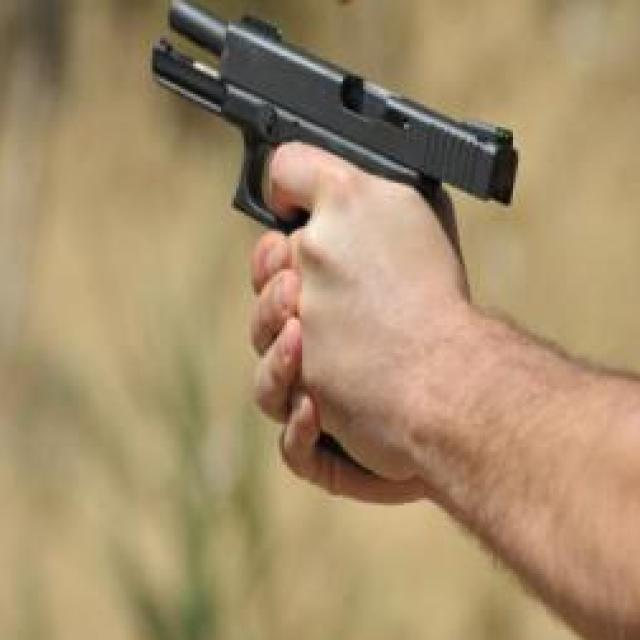pistol: (142, 0, 518, 477)
